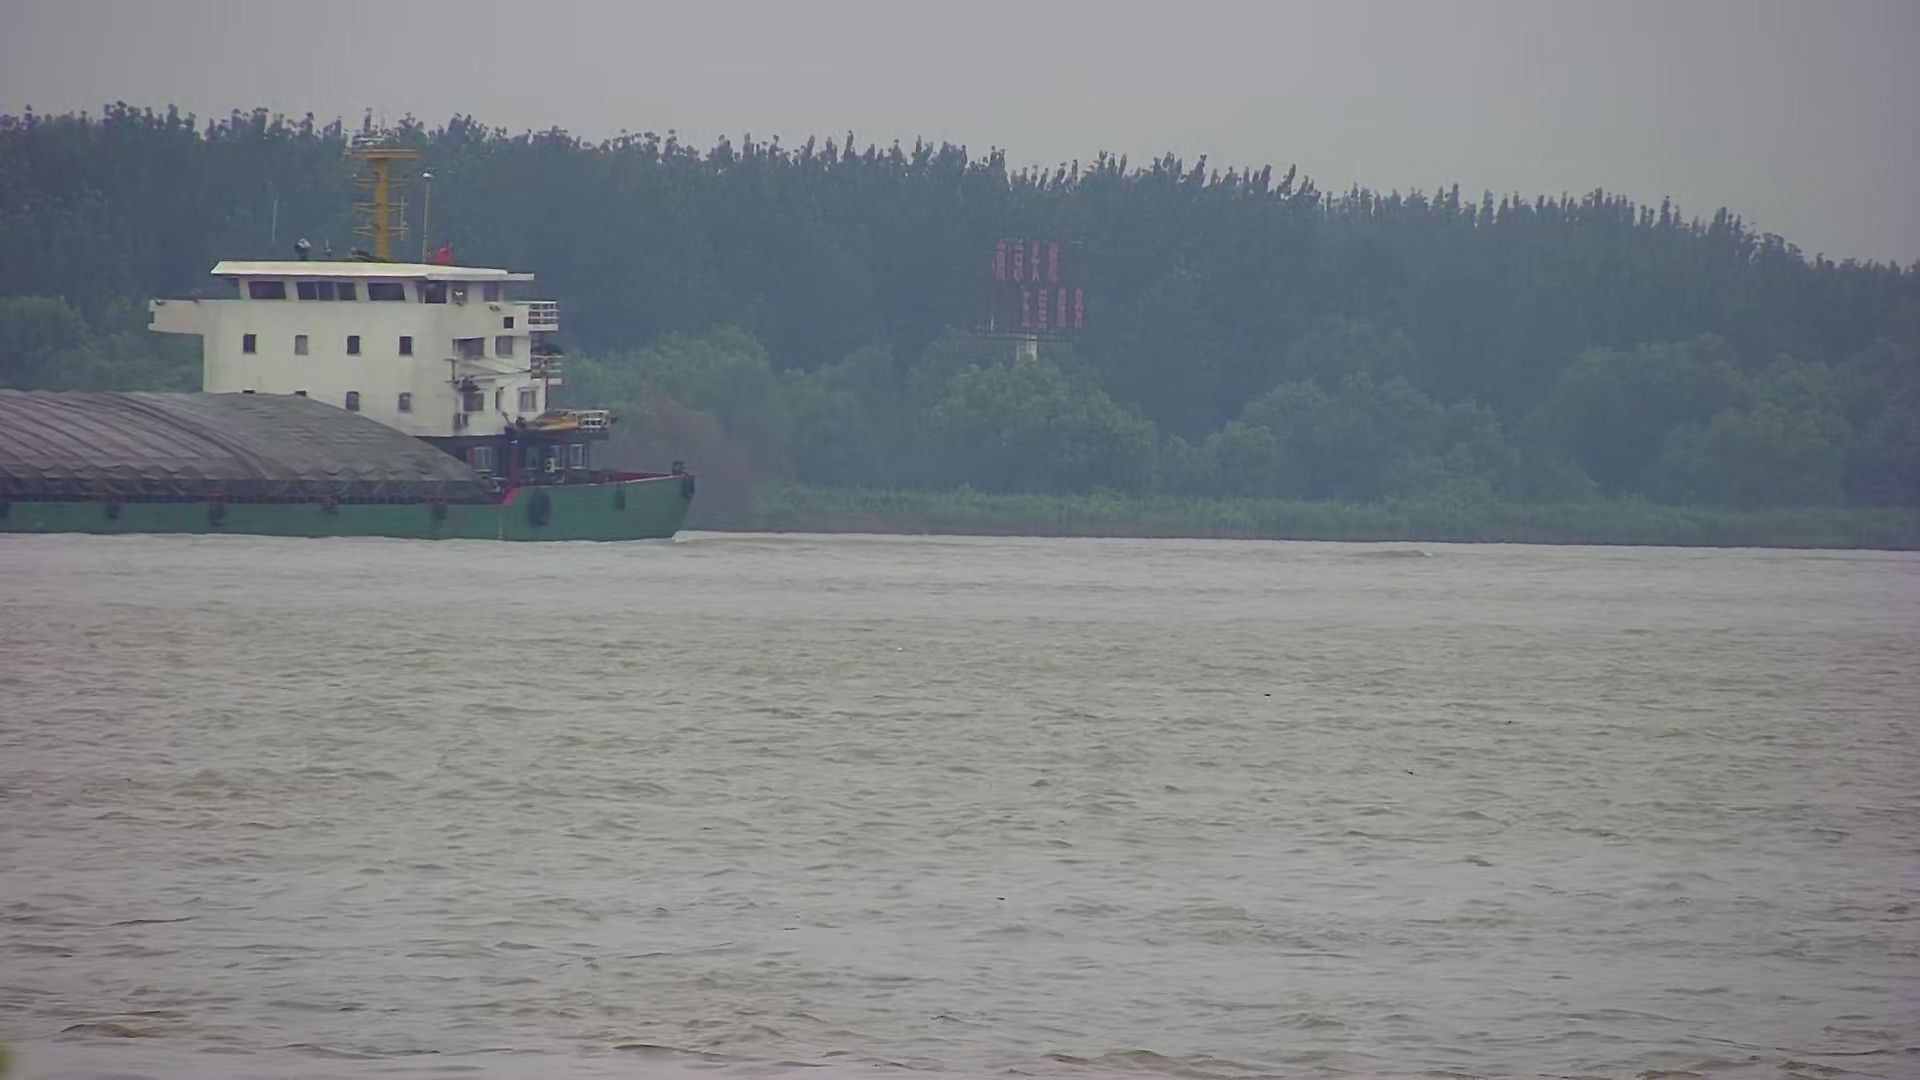ship: (4, 128, 700, 549)
